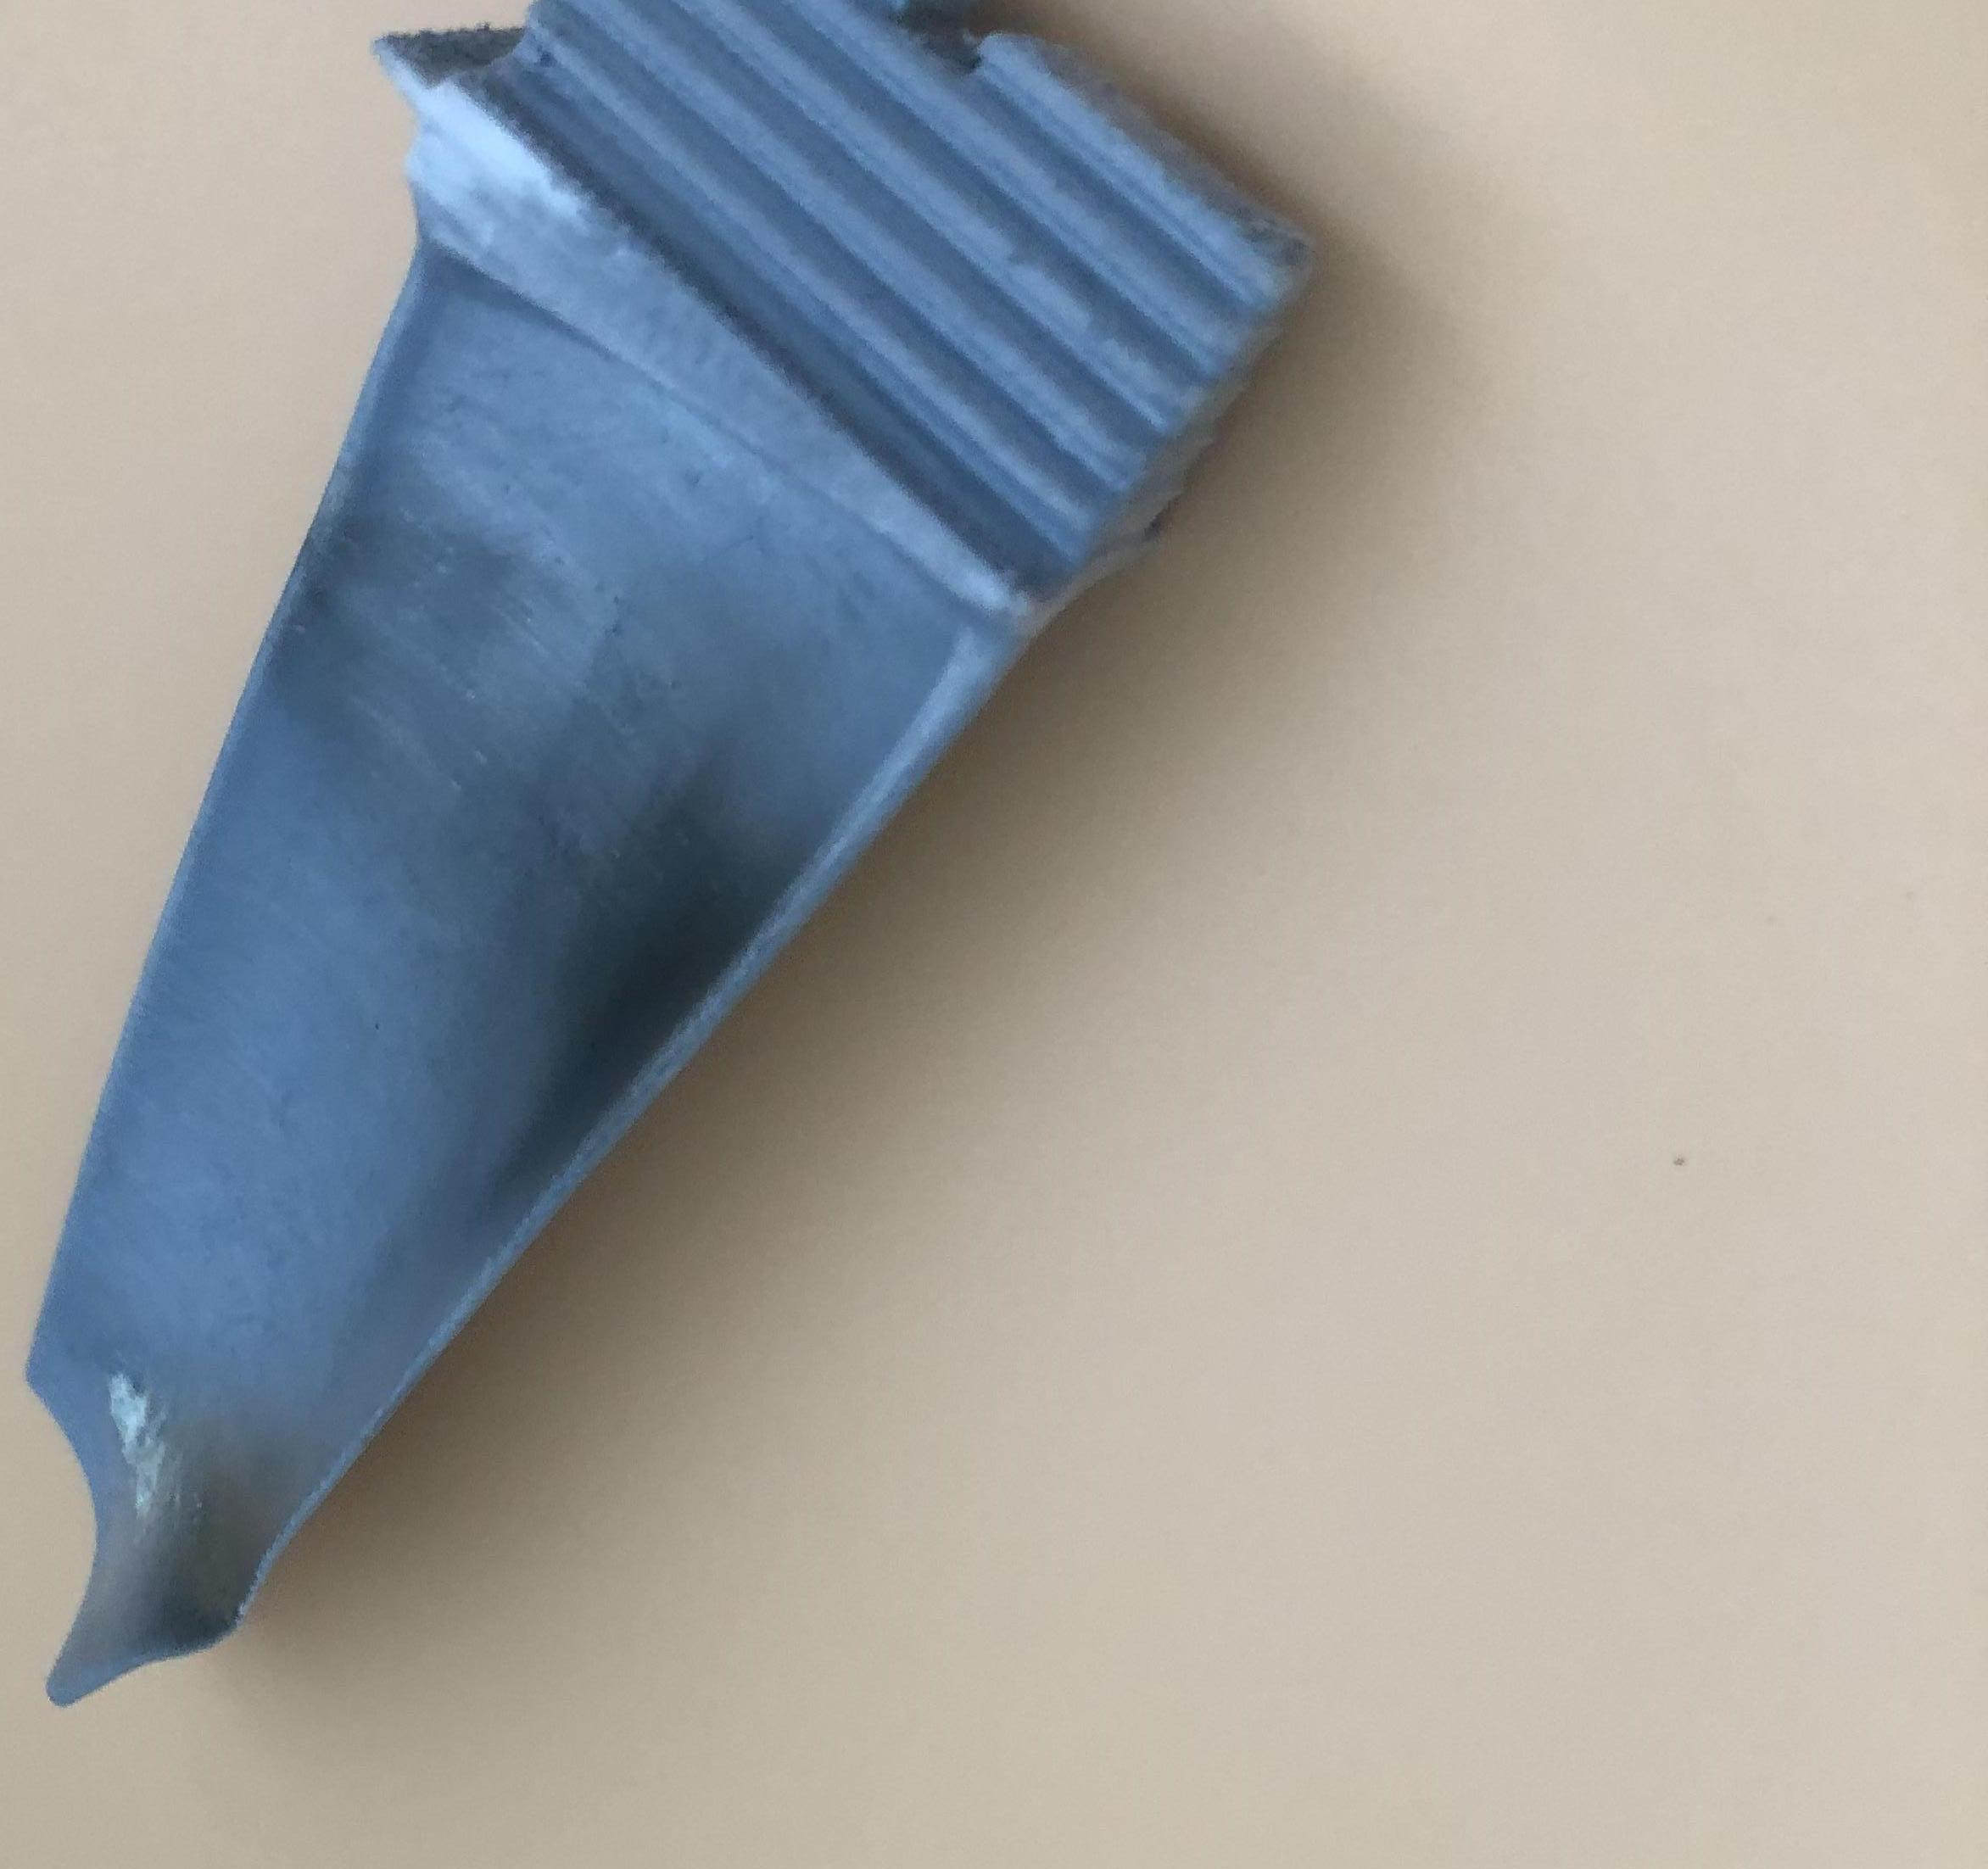ablation: (515, 762, 741, 1152), (148, 1454, 270, 1648)
